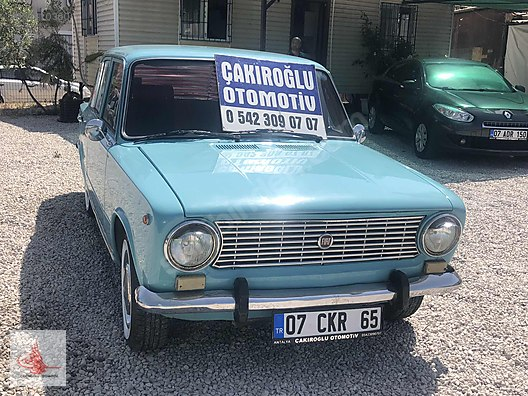murat: (76, 35, 472, 352)
